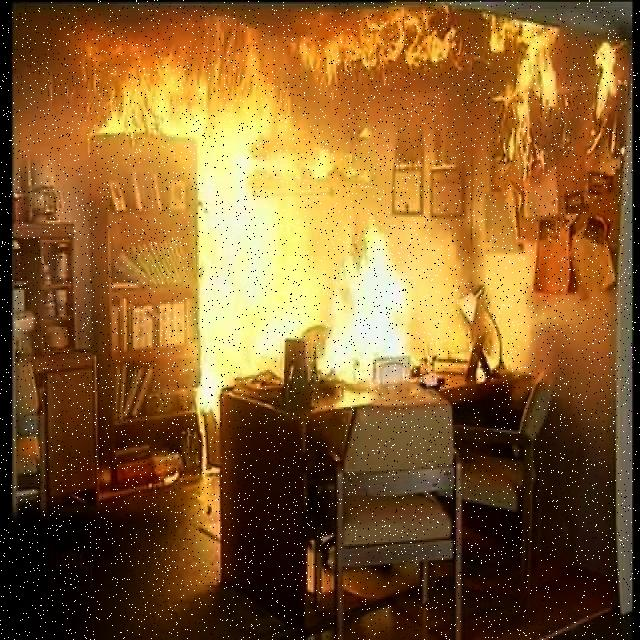fire: (102, 45, 304, 396), (319, 23, 640, 107), (330, 229, 420, 386)
